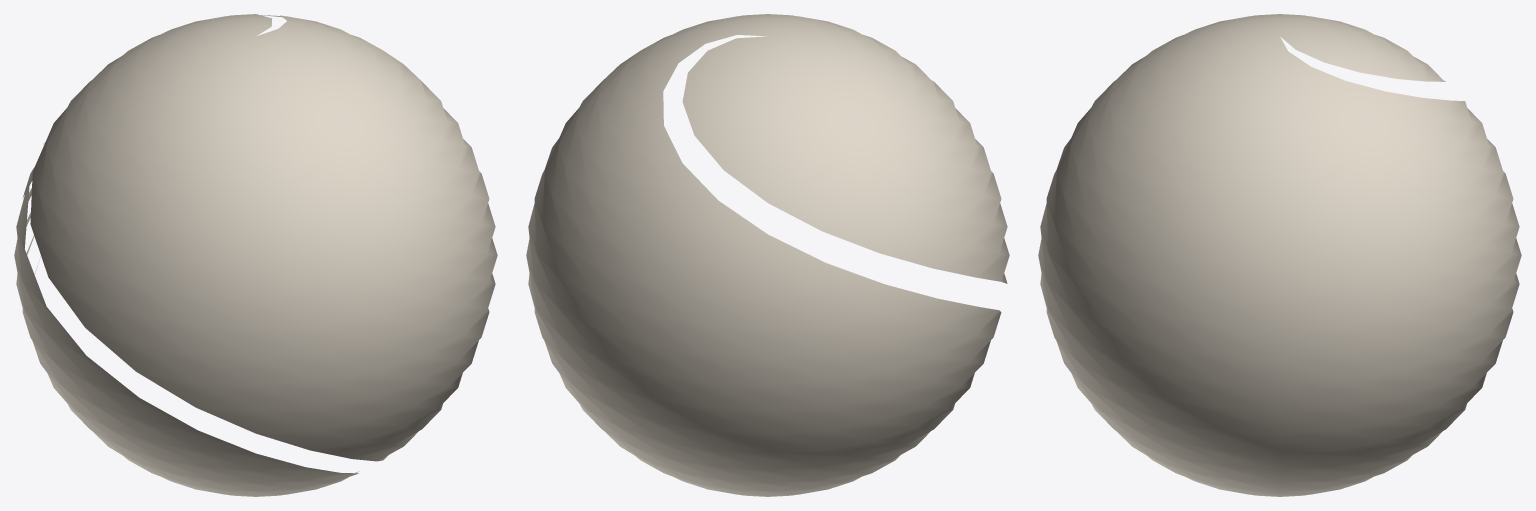
3 renders of one model, left to right at view 1: azimuth 30°, elevation 25°; view 2: azimuth 150°, elevation 25°; view 3: azimuth 270°, elevation 25°, orthographic.
Size of the model in its own units: 1.8 by 1.79 by 1.8.
